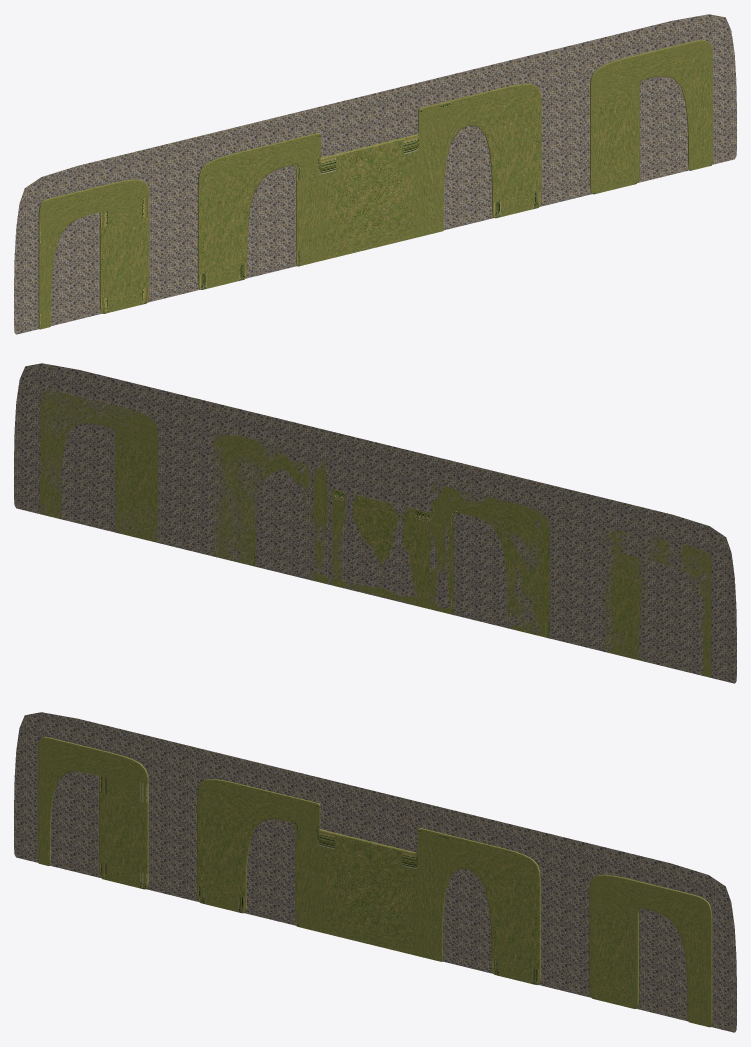
File: blok_podstava.fbx
The picture shows the model from 3 angles, top to bottom: view 1: azimuth 30°, elevation 25°; view 2: azimuth 150°, elevation 25°; view 3: azimuth 330°, elevation 25°; orthographic projection.
Parts seen in each view (by area): view 1: Plane.003; view 2: Plane.003; view 3: Plane.003.
Boxes of the visible parts, x1=… form: Plane.003: x1=14, y1=14, x2=736, y2=334; Plane.003: x1=14, y1=363, x2=736, y2=683; Plane.003: x1=14, y1=712, x2=736, y2=1032.
Bounding box in the file's own units: 59 × 12 × 0.1.
4 materials, 4 textured.
